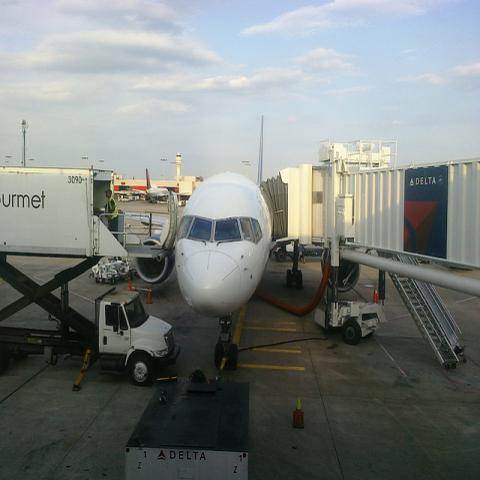truck: (0, 285, 184, 394)
